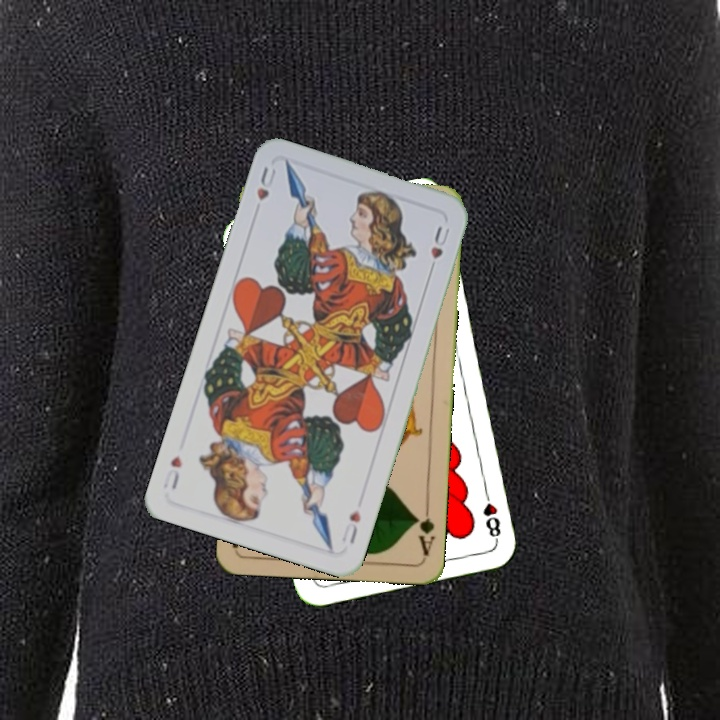GA: (411, 499, 437, 559)
H8: (479, 485, 503, 544)
HU: (252, 162, 279, 203), (337, 506, 363, 548)
